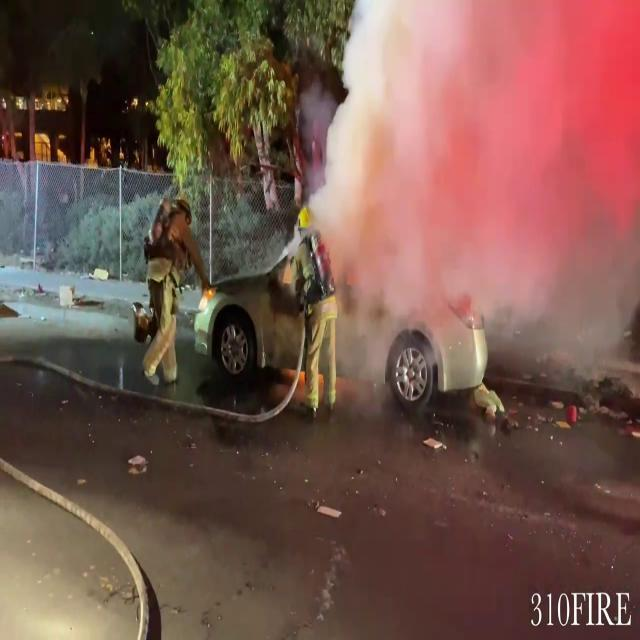Smoke: (301, 0, 640, 380)
